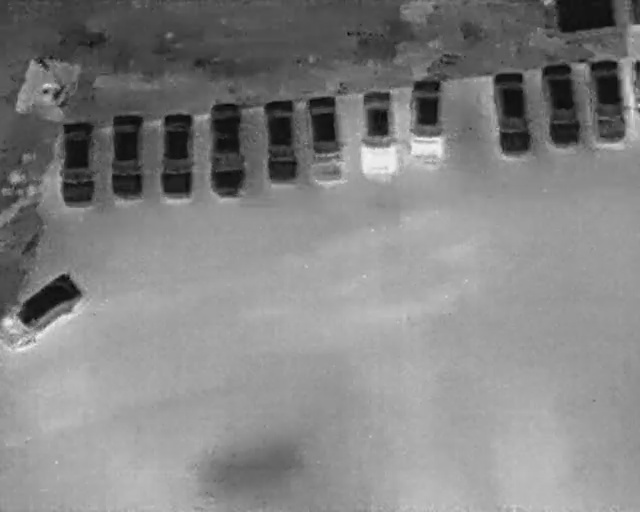Car: (0, 270, 85, 355), (355, 85, 404, 182), (488, 66, 537, 161), (537, 57, 586, 152), (584, 53, 633, 148), (302, 92, 349, 190), (205, 100, 249, 201), (55, 117, 101, 209), (103, 111, 149, 203), (406, 74, 451, 167), (154, 109, 198, 204), (261, 96, 303, 187)
